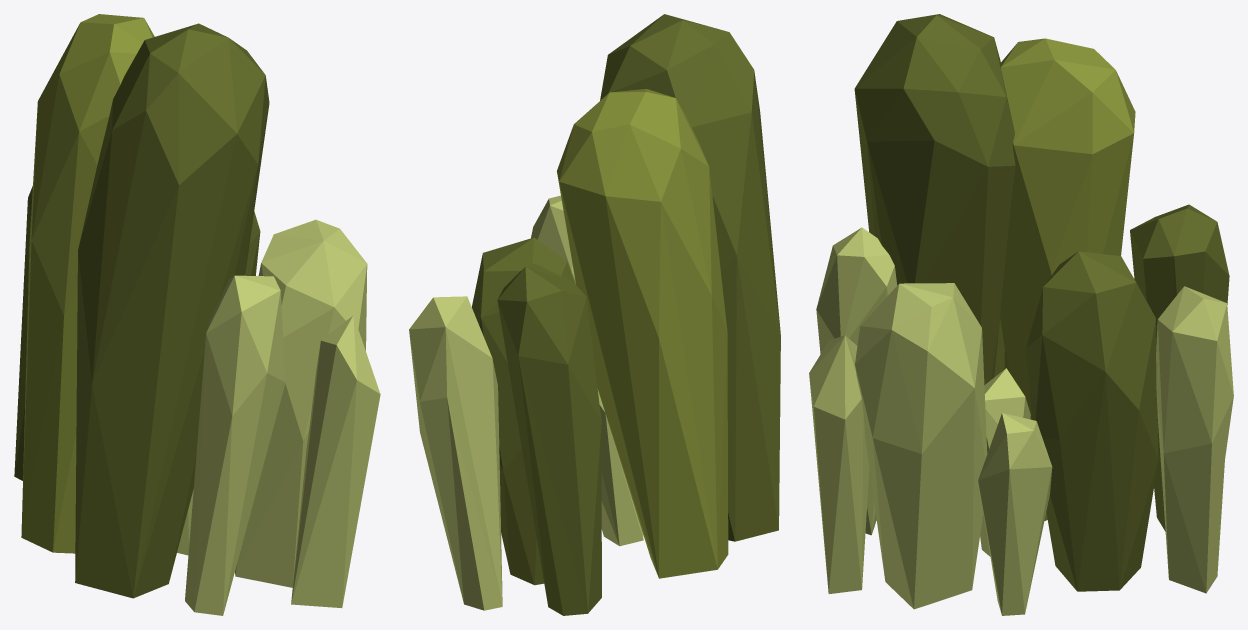
The model's file is ea_swamp_grass_01f_pre__4__lev1.glb.
3 views of the same model, side by side, from view 1: azimuth 30°, elevation 25°; view 2: azimuth 150°, elevation 25°; view 3: azimuth 270°, elevation 25° (orthographic). The views are drawn at different scales.
Parts seen in each view (by area): view 1: ea_swamp_grass_01f_pre__4__lev1; view 2: ea_swamp_grass_01f_pre__4__lev1; view 3: ea_swamp_grass_01f_pre__4__lev1.
Boxes of the visible parts, x1,y1,x2,y2 form: ea_swamp_grass_01f_pre__4__lev1: [14, 14, 380, 615]; ea_swamp_grass_01f_pre__4__lev1: [409, 14, 780, 615]; ea_swamp_grass_01f_pre__4__lev1: [809, 14, 1233, 615].
Size of the model in its own units: 0.7195 by 1.4 by 1.
Materials: 1 (1 with a texture image).
